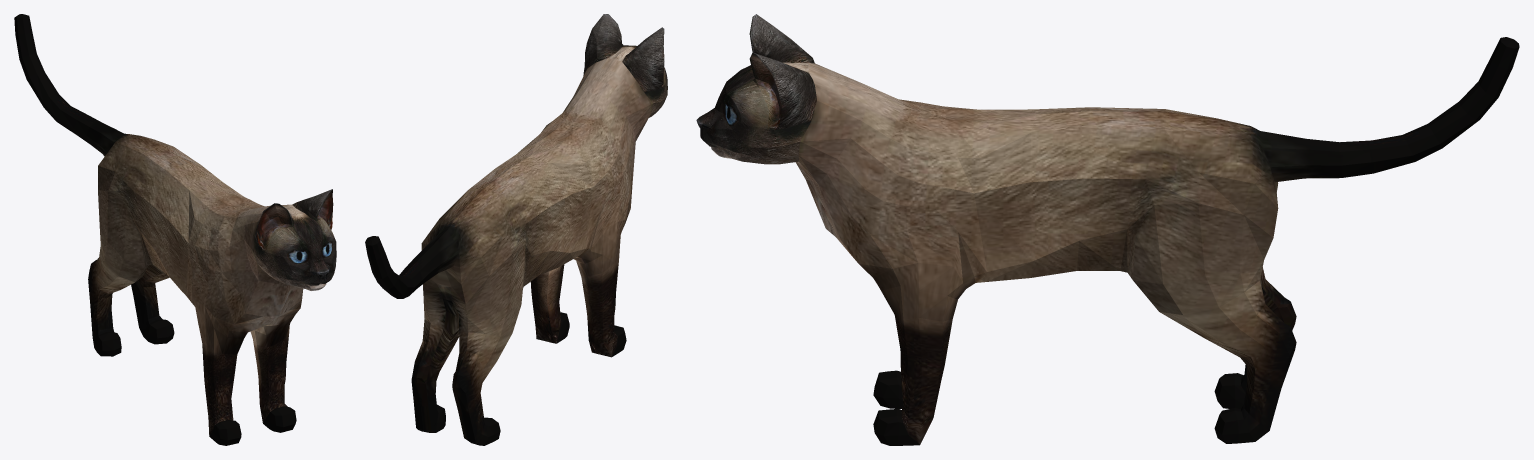
The picture shows the model from 3 angles, left to right: view 1: azimuth 30°, elevation 25°; view 2: azimuth 150°, elevation 25°; view 3: azimuth 270°, elevation 25°; orthographic projection. The views are drawn at different scales.
Visible parts, largest first — view 1: WJABP3NXFTSAFGMYSO142QRWJ; view 2: WJABP3NXFTSAFGMYSO142QRWJ; view 3: WJABP3NXFTSAFGMYSO142QRWJ.
Part boxes in pixels (left/top/right/bottom): WJABP3NXFTSAFGMYSO142QRWJ: left=14, top=14, right=336, bottom=445; WJABP3NXFTSAFGMYSO142QRWJ: left=365, top=14, right=667, bottom=445; WJABP3NXFTSAFGMYSO142QRWJ: left=696, top=14, right=1519, bottom=445.
Size of the model in its own units: 0.408 by 1.29 by 2.5.
1 material, 1 textured.
